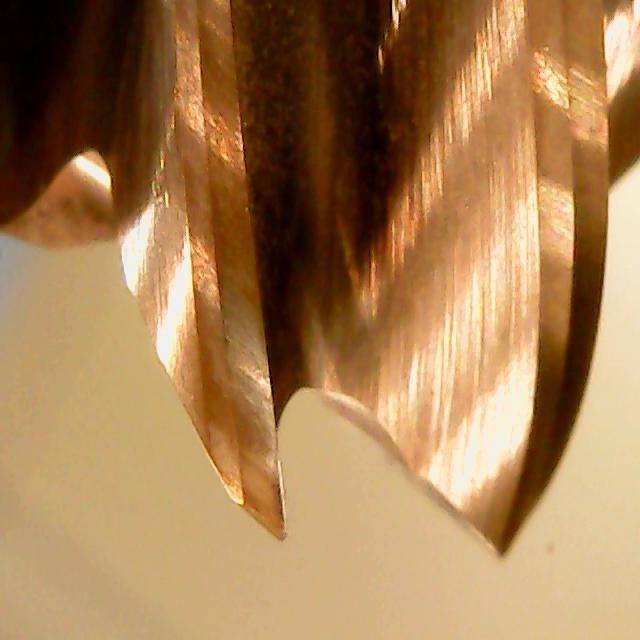Tool-wear-class-0: (172, 217, 302, 543)
